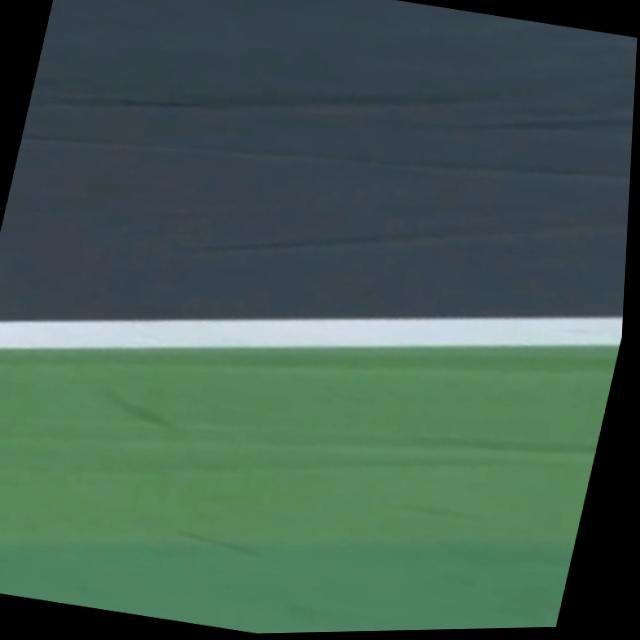right: (0, 316, 623, 347)
